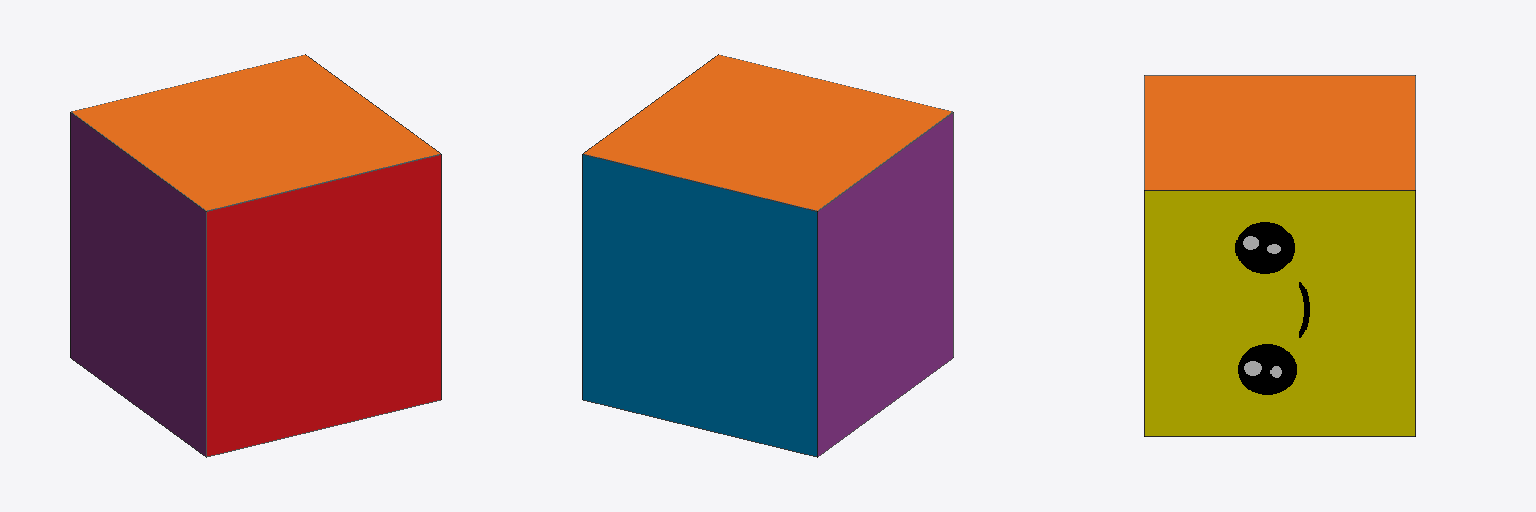
3 views of the same model, side by side, from view 1: azimuth 30°, elevation 25°; view 2: azimuth 150°, elevation 25°; view 3: azimuth 270°, elevation 25° (orthographic).
Visible parts, largest first — view 1: Cube; view 2: Cube; view 3: Cube.
Part boxes in pixels (bbox=[...]): Cube: bbox=[70, 54, 441, 457]; Cube: bbox=[582, 54, 953, 457]; Cube: bbox=[1144, 75, 1415, 436].
Size of the model in its own units: 1 by 1 by 1.
1 materials, 1 textured.